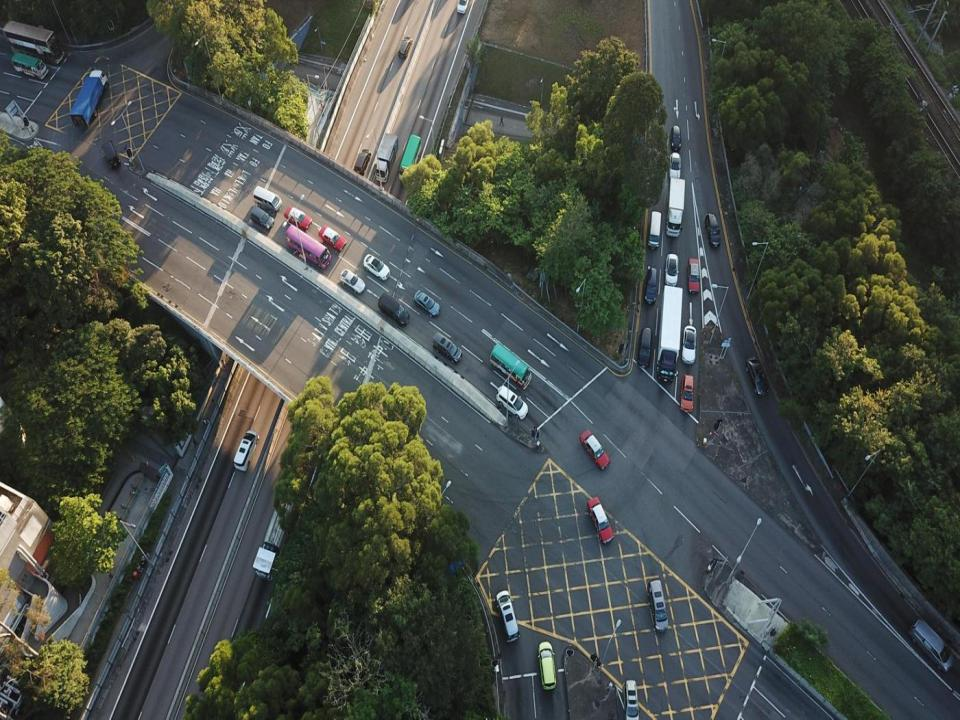bus: (3, 19, 65, 65), (285, 224, 331, 268), (490, 342, 532, 388), (11, 52, 49, 80)
car: (587, 496, 614, 545), (579, 428, 610, 470), (496, 384, 528, 419), (746, 356, 769, 397), (538, 641, 556, 690), (364, 252, 390, 281), (413, 290, 440, 317), (318, 226, 346, 252), (622, 679, 640, 719), (340, 269, 366, 295), (284, 206, 313, 229), (680, 373, 696, 413), (637, 328, 653, 366), (682, 326, 696, 366), (250, 206, 274, 229), (664, 254, 679, 287), (645, 268, 658, 306), (354, 149, 371, 177), (688, 258, 699, 294), (398, 36, 413, 58), (670, 154, 681, 180), (671, 125, 681, 152), (456, 0, 470, 15)
truck: (253, 491, 296, 581), (658, 286, 682, 382), (70, 69, 108, 128), (666, 177, 685, 238)
van: (908, 617, 954, 673), (496, 590, 520, 644), (374, 133, 398, 183), (233, 430, 259, 472), (648, 580, 669, 632), (398, 135, 422, 180), (378, 292, 409, 325), (433, 330, 462, 364), (252, 186, 282, 211), (704, 213, 721, 248), (648, 211, 662, 250), (102, 140, 120, 169)
